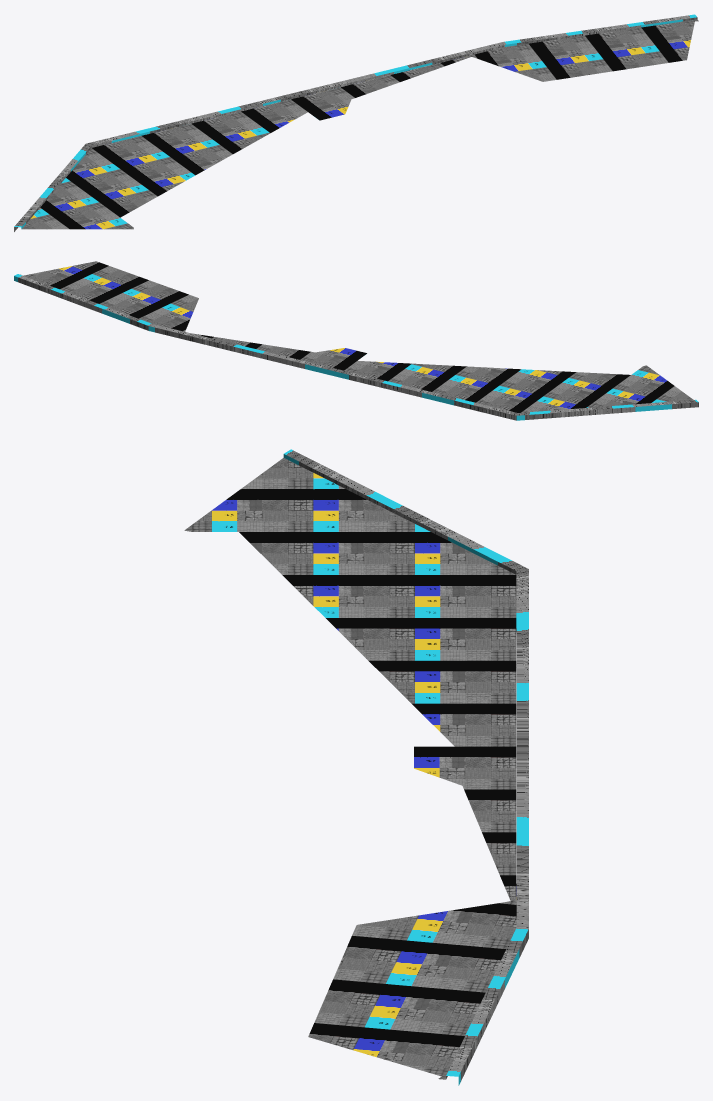
The model's file is chinatown_sidewalk_3.fbx.
3 renders of one model, top to bottom at view 1: azimuth 30°, elevation 25°; view 2: azimuth 150°, elevation 25°; view 3: azimuth 270°, elevation 25°, orthographic. The views are drawn at different scales.
Visible parts, largest first — view 1: curb_tiles_1, chinatown_curb_3; view 2: curb_tiles_1, chinatown_curb_3; view 3: curb_tiles_1, chinatown_curb_3.
Boxes of the visible parts, x1,y1,x2,y2 form: curb_tiles_1: [22, 56, 471, 229]; chinatown_curb_3: [14, 14, 698, 231]; curb_tiles_1: [193, 333, 693, 412]; chinatown_curb_3: [14, 261, 698, 420]; curb_tiles_1: [184, 457, 516, 900]; chinatown_curb_3: [283, 449, 528, 1085].
Bounding box in the file's own units: 2121 × 15.84 × 493.
